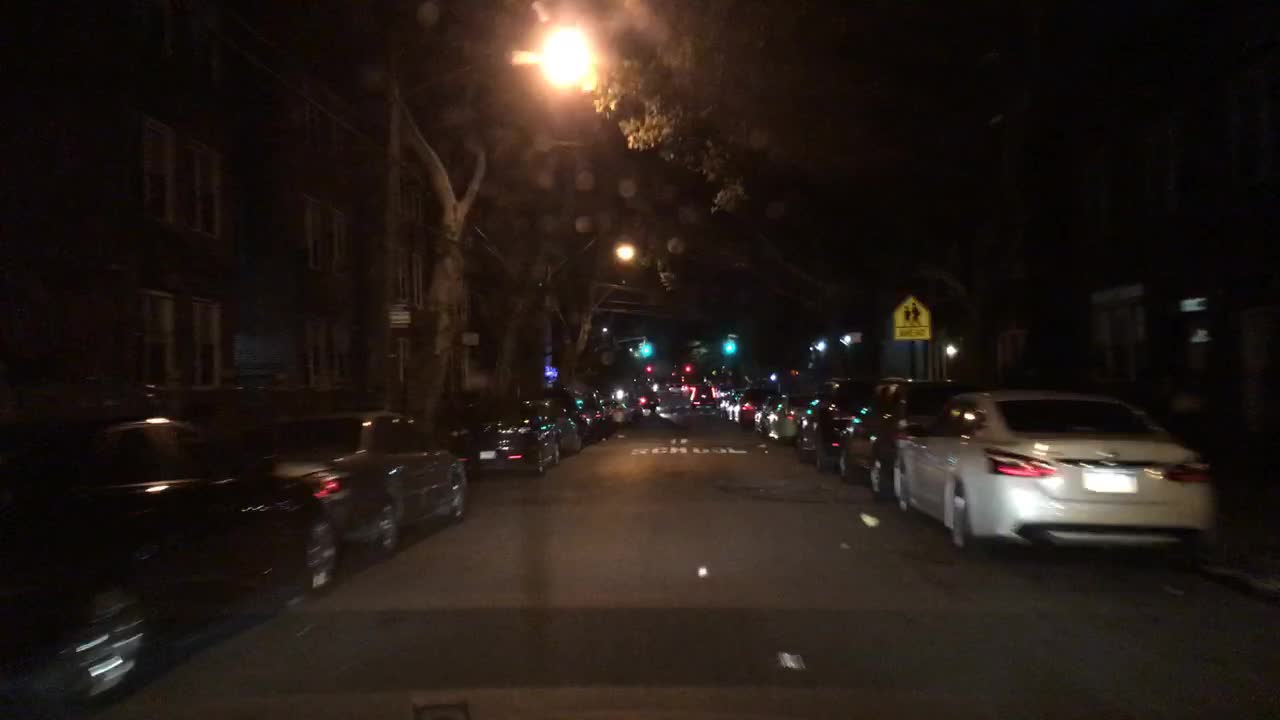car: (0, 411, 345, 700), (885, 384, 1220, 569), (242, 407, 471, 556), (833, 376, 977, 511), (441, 394, 564, 479), (791, 374, 887, 477), (515, 396, 587, 455), (763, 393, 818, 450), (570, 388, 619, 446), (735, 387, 782, 429), (751, 392, 790, 438), (602, 397, 634, 427), (687, 384, 721, 411), (724, 389, 745, 425), (638, 389, 663, 413), (621, 396, 645, 420), (716, 392, 733, 424), (666, 383, 684, 395), (679, 384, 689, 394)
traffic light: (724, 335, 736, 356), (643, 343, 653, 356), (682, 361, 692, 373), (635, 341, 645, 353), (645, 363, 653, 372)
traffic sign: (1084, 280, 1150, 350), (890, 293, 932, 341)
